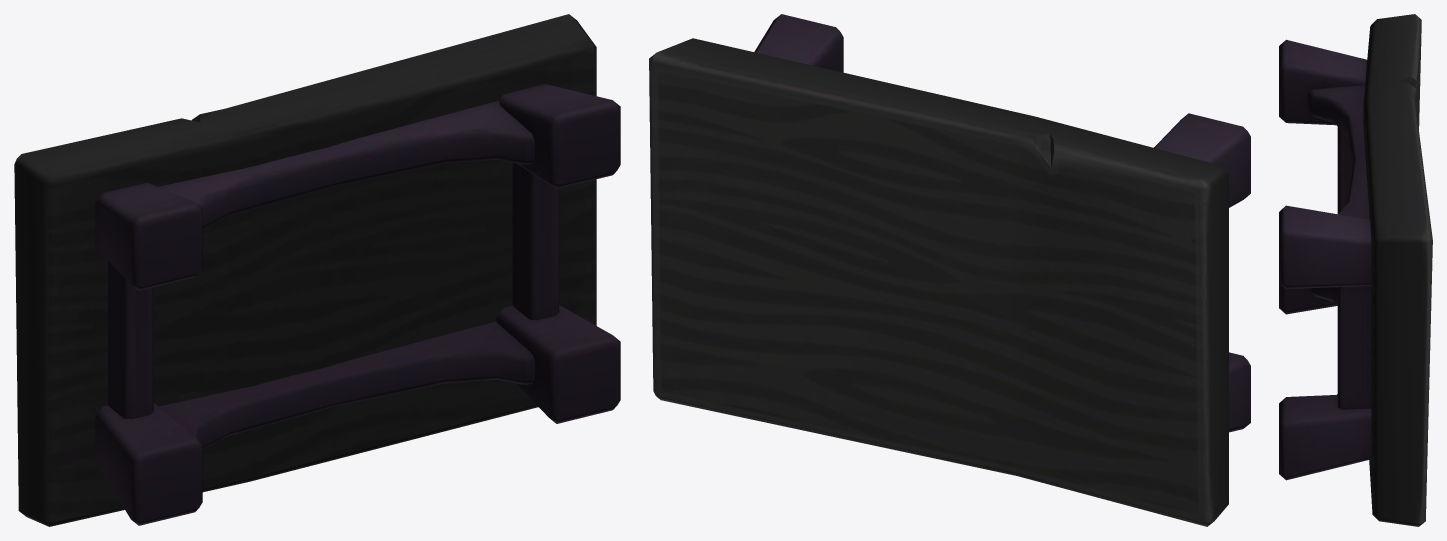
Rendered from SpookyTable.fbx.
3 renders of one model, left to right at view 1: azimuth 30°, elevation 25°; view 2: azimuth 150°, elevation 25°; view 3: azimuth 270°, elevation 25°, orthographic. The views are drawn at different scales.
Visible parts, largest first — view 1: SpookyTable; view 2: SpookyTable; view 3: SpookyTable.
Boxes of the visible parts, bbox=[...] form: SpookyTable: bbox=[14, 14, 620, 526]; SpookyTable: bbox=[649, 14, 1250, 526]; SpookyTable: bbox=[1279, 14, 1432, 526].
Size of the model in its own units: 139 by 84.03 by 40.01.
